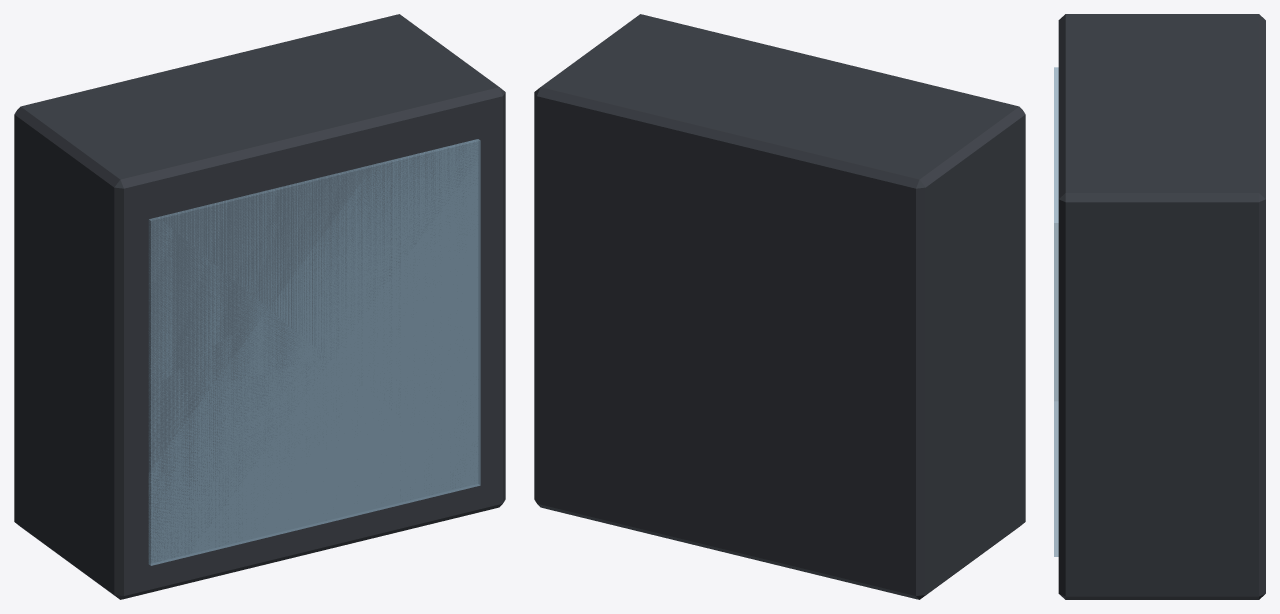
Rendered from phone_booth.glb.
The picture shows the model from 3 angles, left to right: view 1: azimuth 30°, elevation 25°; view 2: azimuth 150°, elevation 25°; view 3: azimuth 270°, elevation 25°; orthographic projection. The views are drawn at different scales.
Visible parts, largest first — view 1: phone_booth_mesh; view 2: phone_booth_mesh; view 3: phone_booth_mesh.
Part boxes in pixels (x1,y1,x2,y2): phone_booth_mesh: (14, 14, 505, 599); phone_booth_mesh: (534, 14, 1025, 599); phone_booth_mesh: (1054, 14, 1265, 599).
Bounding box in the file's own units: 1.9 × 1.95 × 0.92.
